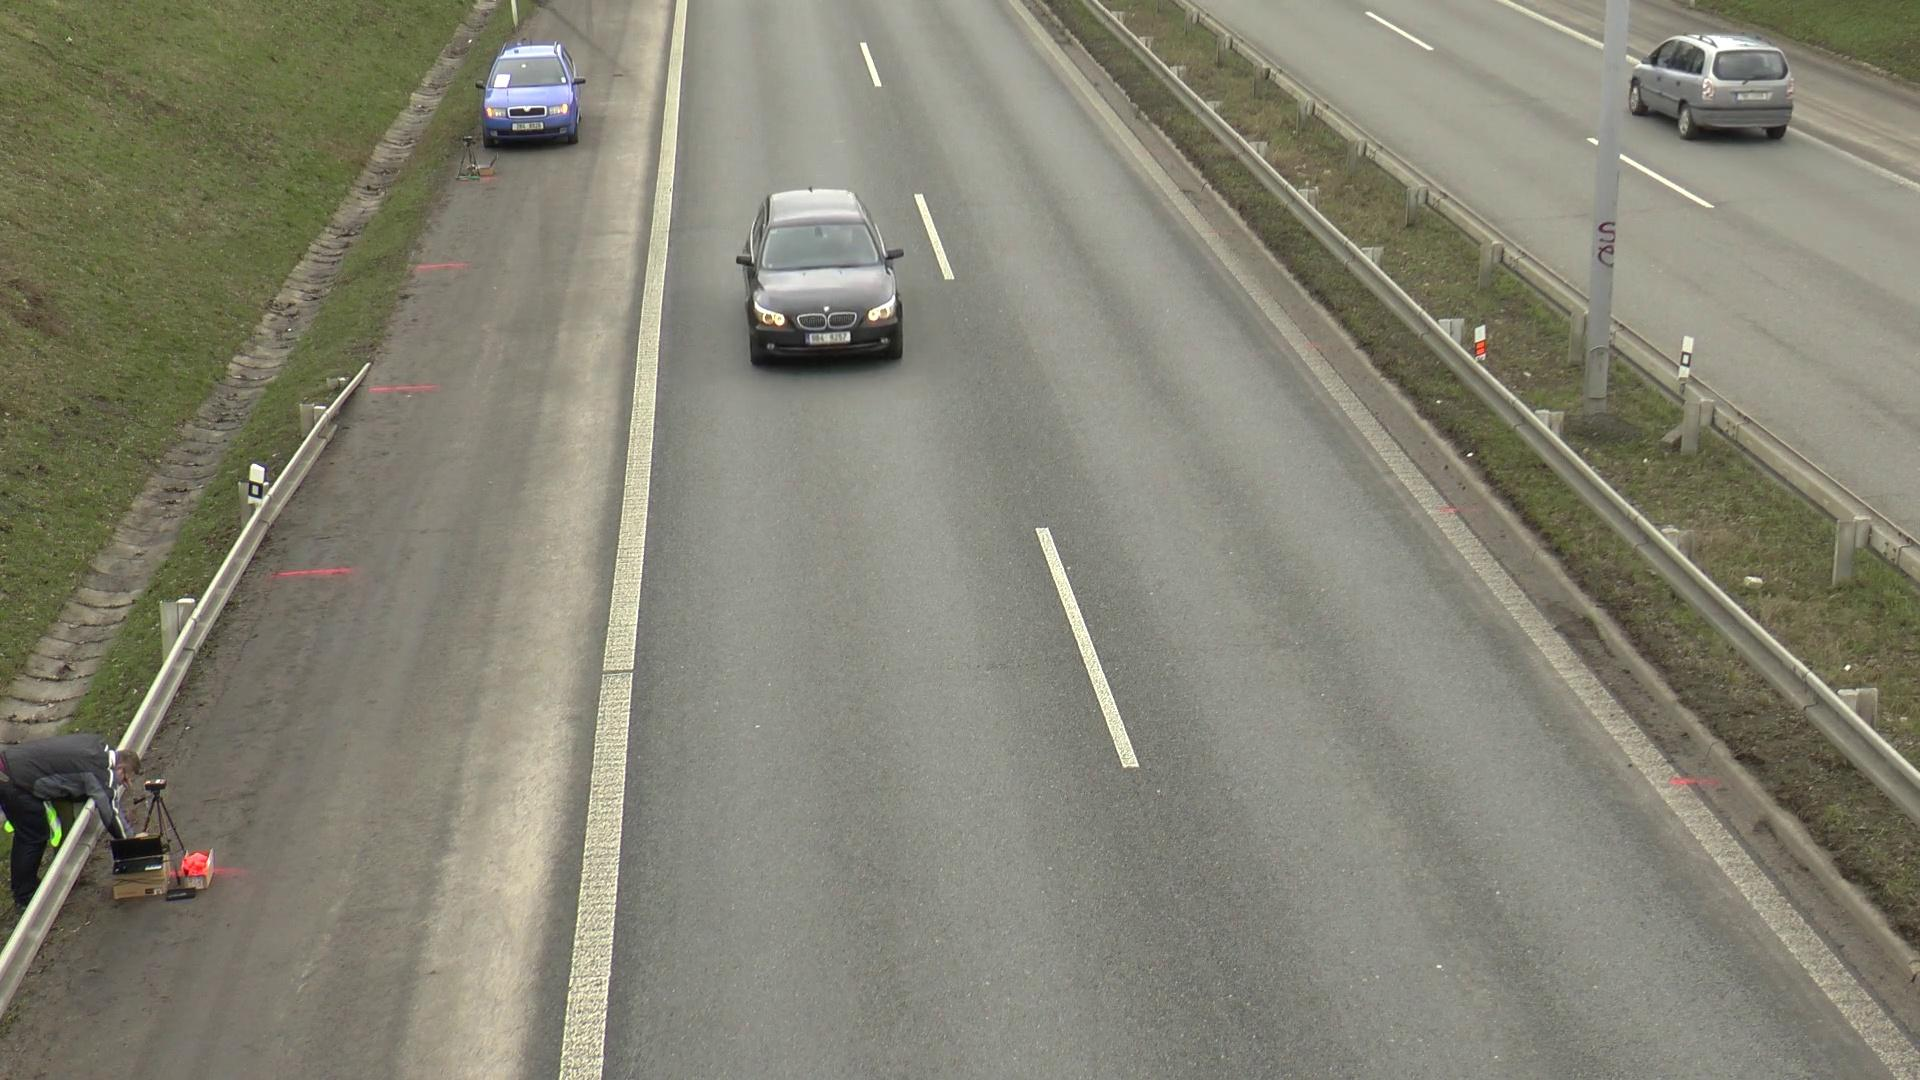Car: (726, 174, 918, 392), (1594, 28, 1826, 155), (468, 30, 592, 153)
